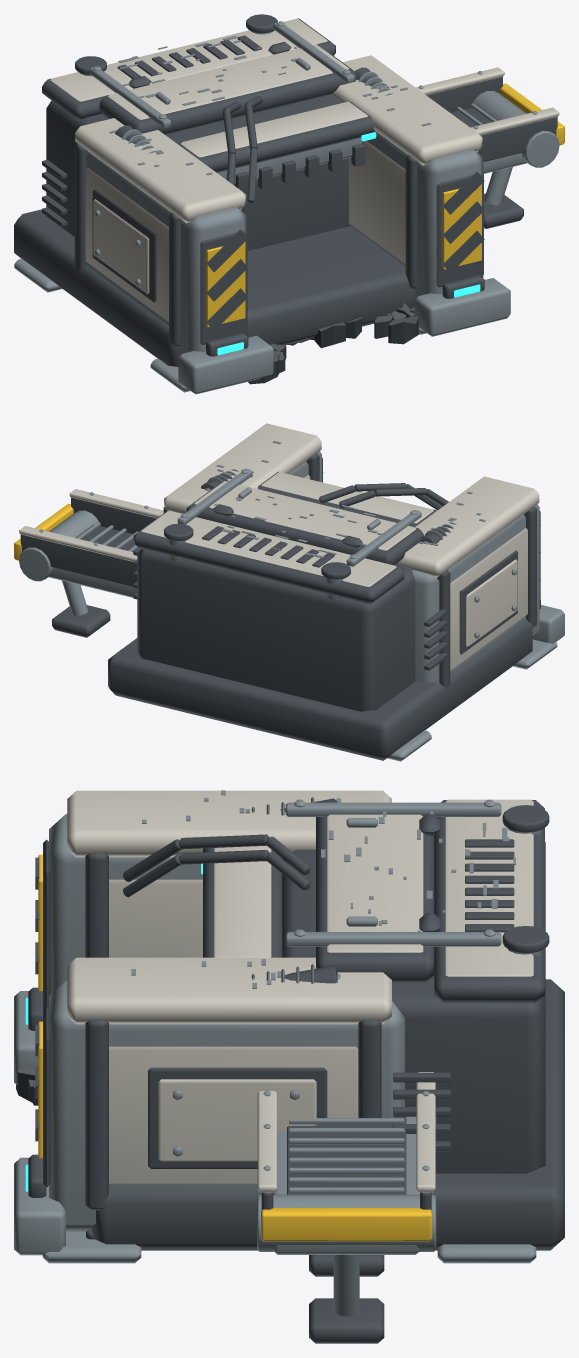
Rendered from SM_CoalMine.fbx.
3 renders of one model, top to bottom at view 1: azimuth 30°, elevation 25°; view 2: azimuth 150°, elevation 25°; view 3: azimuth 270°, elevation 25°, orthographic. The views are drawn at different scales.
Visible parts, largest first — view 1: SM_CoalMine.001; view 2: SM_CoalMine.001; view 3: SM_CoalMine.001.
Boxes of the visible parts, left/top/right/bottom form: SM_CoalMine.001: left=14, top=14, right=564, bottom=394; SM_CoalMine.001: left=14, top=423, right=564, bottom=761; SM_CoalMine.001: left=14, top=790, right=564, bottom=1343.
Size of the model in its own units: 295 by 212 by 125.
